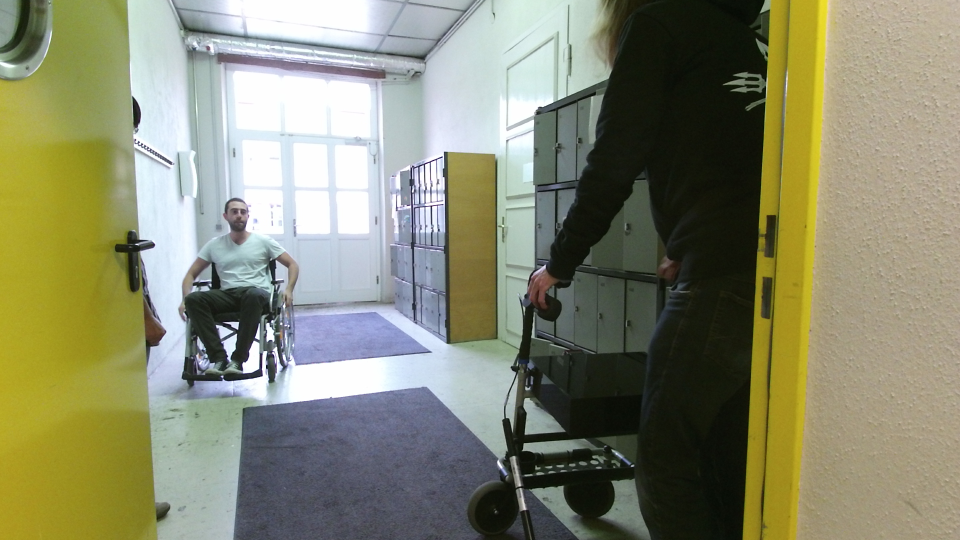wheelchair: (173, 193, 302, 392)
